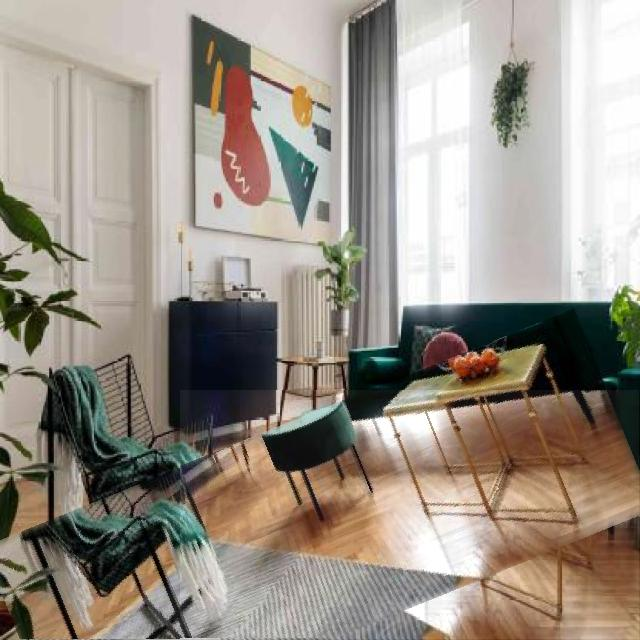floor: (181, 391, 639, 639), (18, 583, 71, 640), (155, 637, 162, 640)
